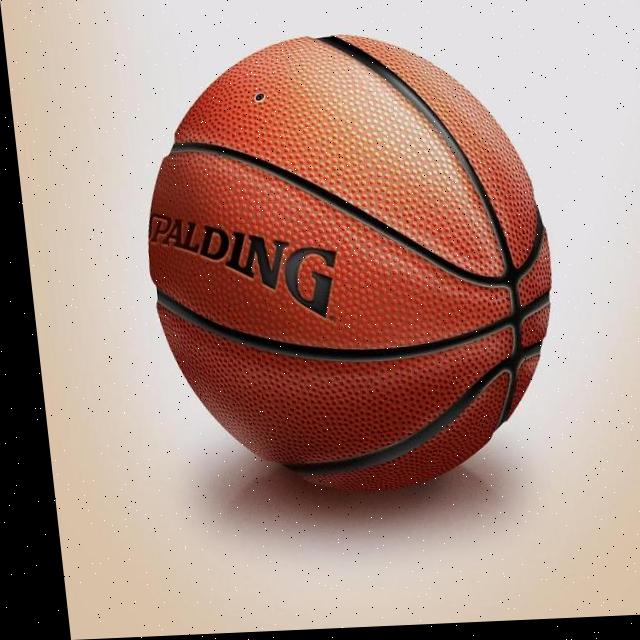Basketball: (123, 28, 575, 501)
